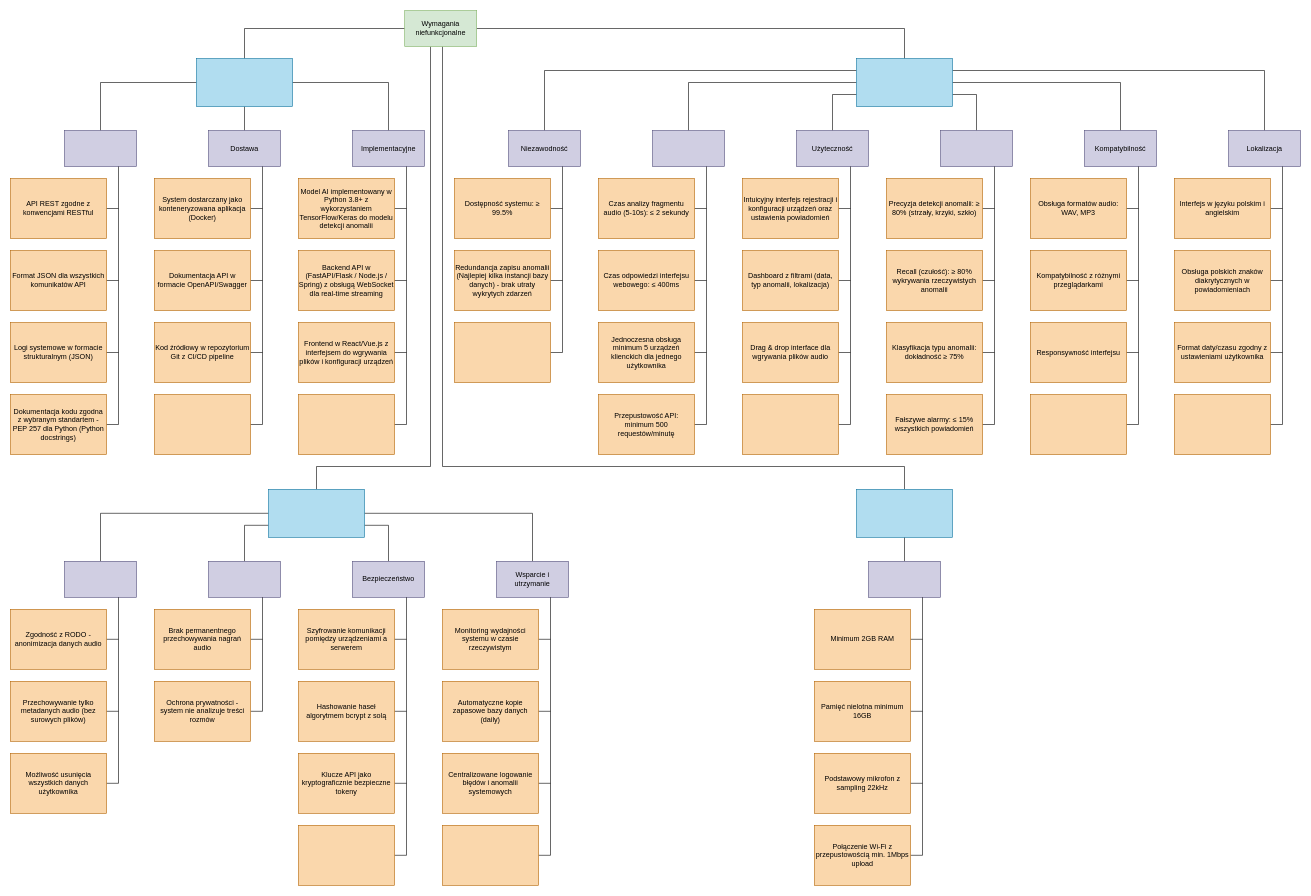
Image size: 1311x896. Some labels were removed from this diagram. The shapes that lost their labels are listed below. From the top down, each one's centre as x and y in pixels, then its label:
At point (244, 82): "Wymagania organizacyjne".
At point (904, 82): "Wymagania produktowe".
At point (100, 148): "Standardy".
At point (688, 148): "Wydajność".
At point (976, 148): "Dokładność".
At point (502, 352): "Automatyczne przywracanie połączenia urządzeń po awarii sieci".
At point (202, 424): "Instrukcje wdrożenia na dla urządzeń klienckich".
At point (346, 424): "Baza danych MySql z tabelami zgodnie ze schematem projektu".
At point (790, 424): "Wizualizacja urządzeń klienckich oraz wykrytych anomalii na mapie".
At point (1078, 424): "API dostępne przez HTTPS z dokumentacją Swagger".
At point (1222, 424): "Powiadomienia SMS/email w języku wybranym przez użytkownika".
At point (316, 513): "Wymagania zewnętrzne".
At point (904, 513): "Wymagania sprzętowe (urządzenia klienckie)".
At point (100, 579): "Prawne".
At point (244, 579): "Etyczne".
At point (904, 579): "Wymagania sprzętowe".
At point (346, 855): "Rate limiting API: max 100 requestów/minutę per klucz".
At point (490, 855): "Health check endpoints dla wszystkich serwisów".
